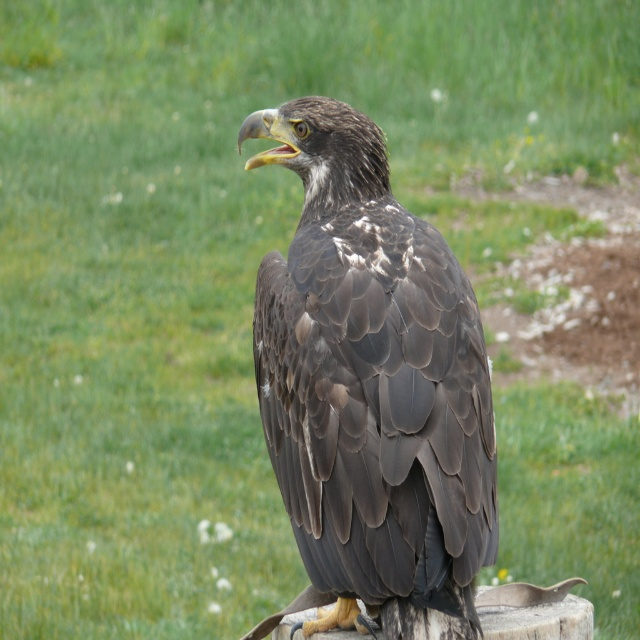Eagle: (238, 93, 499, 639)
